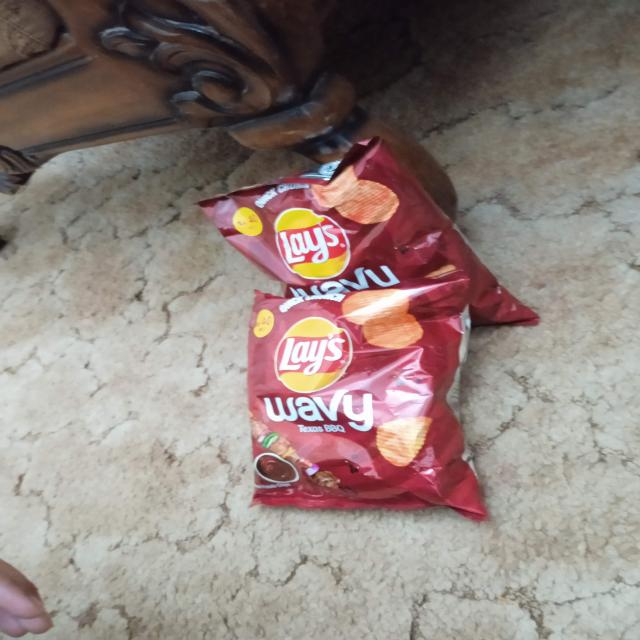Plastic: (252, 297, 468, 512), (205, 131, 474, 291)
